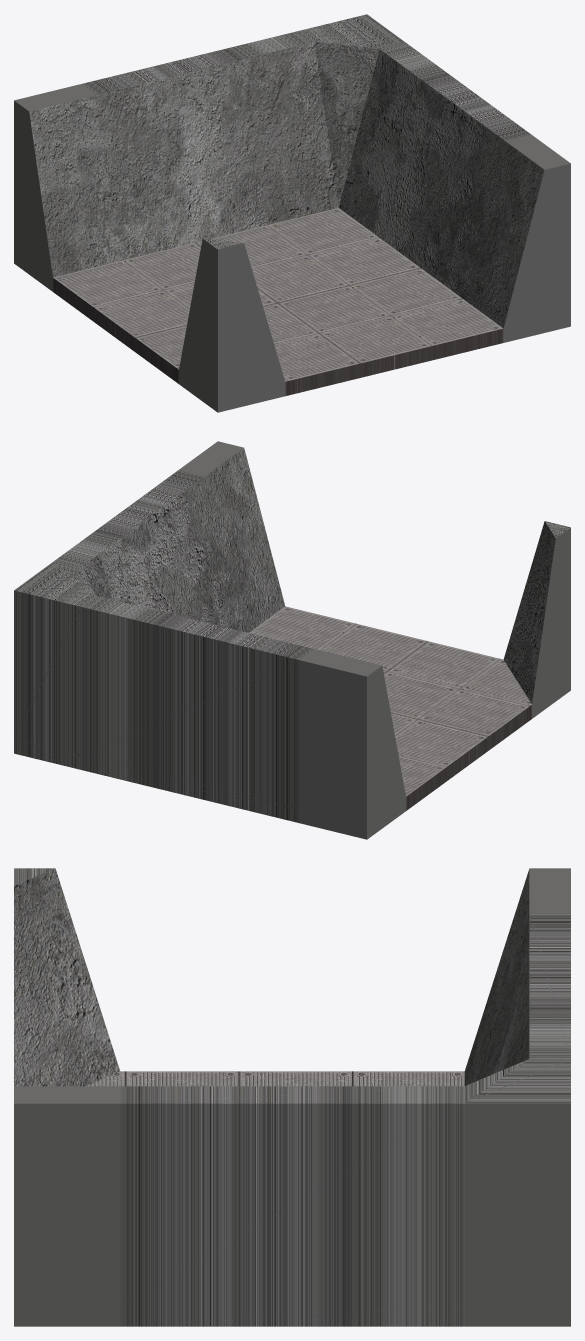
The model's file is Corridor L.fbx.
3 views of the same model, one above another, from view 1: azimuth 30°, elevation 25°; view 2: azimuth 150°, elevation 25°; view 3: azimuth 270°, elevation 25° (orthographic). The views are drawn at different scales.
Parts seen in each view (by area): view 1: Corridor L; view 2: Corridor L; view 3: Corridor L.
Part boxes in pixels (x1,y1,x2,y2): Corridor L: (14,14,570,412); Corridor L: (14,441,570,839); Corridor L: (14,868,570,1326).
Bounding box in the file's own units: 717 × 317 × 717.
